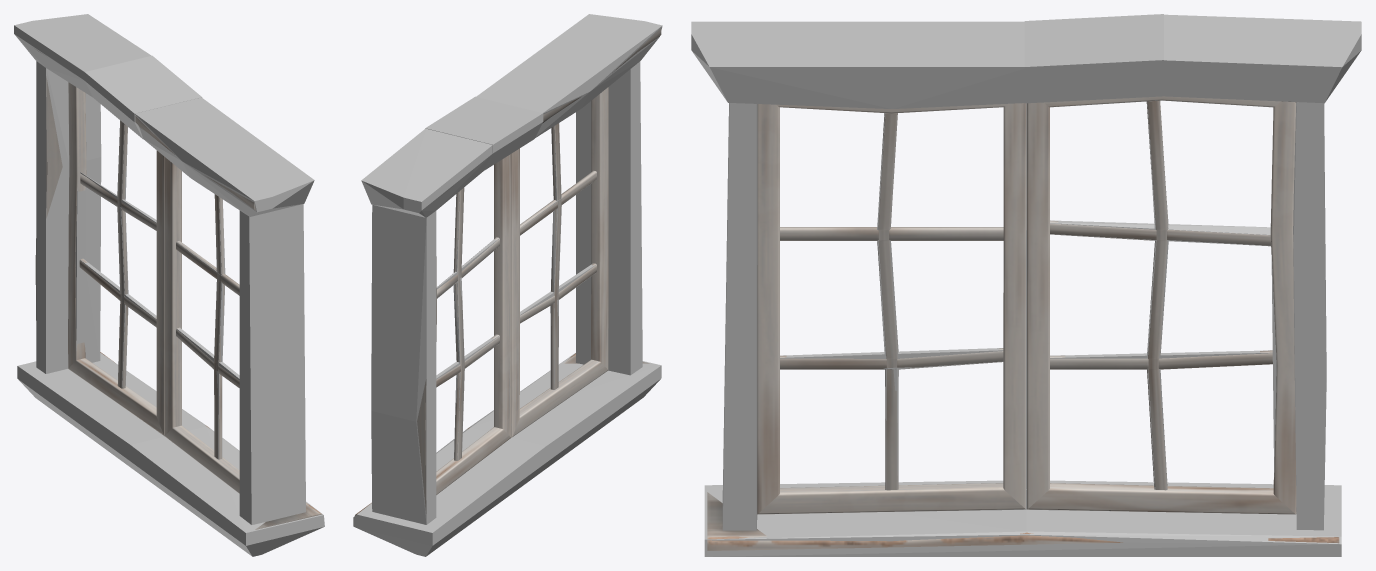
File: SM_PropWindow01TypeB_2_1.fbx
3 views of the same model, side by side, from view 1: azimuth 30°, elevation 25°; view 2: azimuth 150°, elevation 25°; view 3: azimuth 270°, elevation 25° (orthographic). The views are drawn at different scales.
Visible parts, largest first — view 1: SM_PropWindow01TypeB_2_1_ConvexHulls, SM_PropWindow01TypeB_2_1; view 2: SM_PropWindow01TypeB_2_1_ConvexHulls, SM_PropWindow01TypeB_2_1; view 3: SM_PropWindow01TypeB_2_1_ConvexHulls, SM_PropWindow01TypeB_2_1.
Boxes of the visible parts, bbox=[...] form: SM_PropWindow01TypeB_2_1_ConvexHulls: bbox=[14, 14, 324, 556]; SM_PropWindow01TypeB_2_1: bbox=[34, 48, 322, 529]; SM_PropWindow01TypeB_2_1_ConvexHulls: bbox=[353, 14, 662, 556]; SM_PropWindow01TypeB_2_1: bbox=[355, 28, 661, 515]; SM_PropWindow01TypeB_2_1_ConvexHulls: bbox=[691, 14, 1361, 556]; SM_PropWindow01TypeB_2_1: bbox=[707, 96, 1339, 550].
Size of the model in its own units: 44.86 by 236 by 201.
2 materials, 1 textured.
